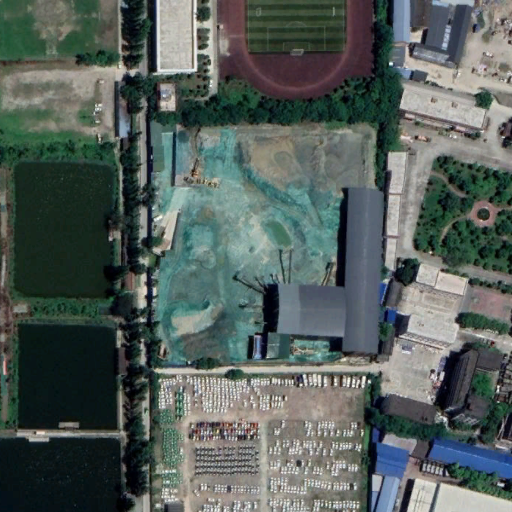cw: (148, 123, 373, 365)
